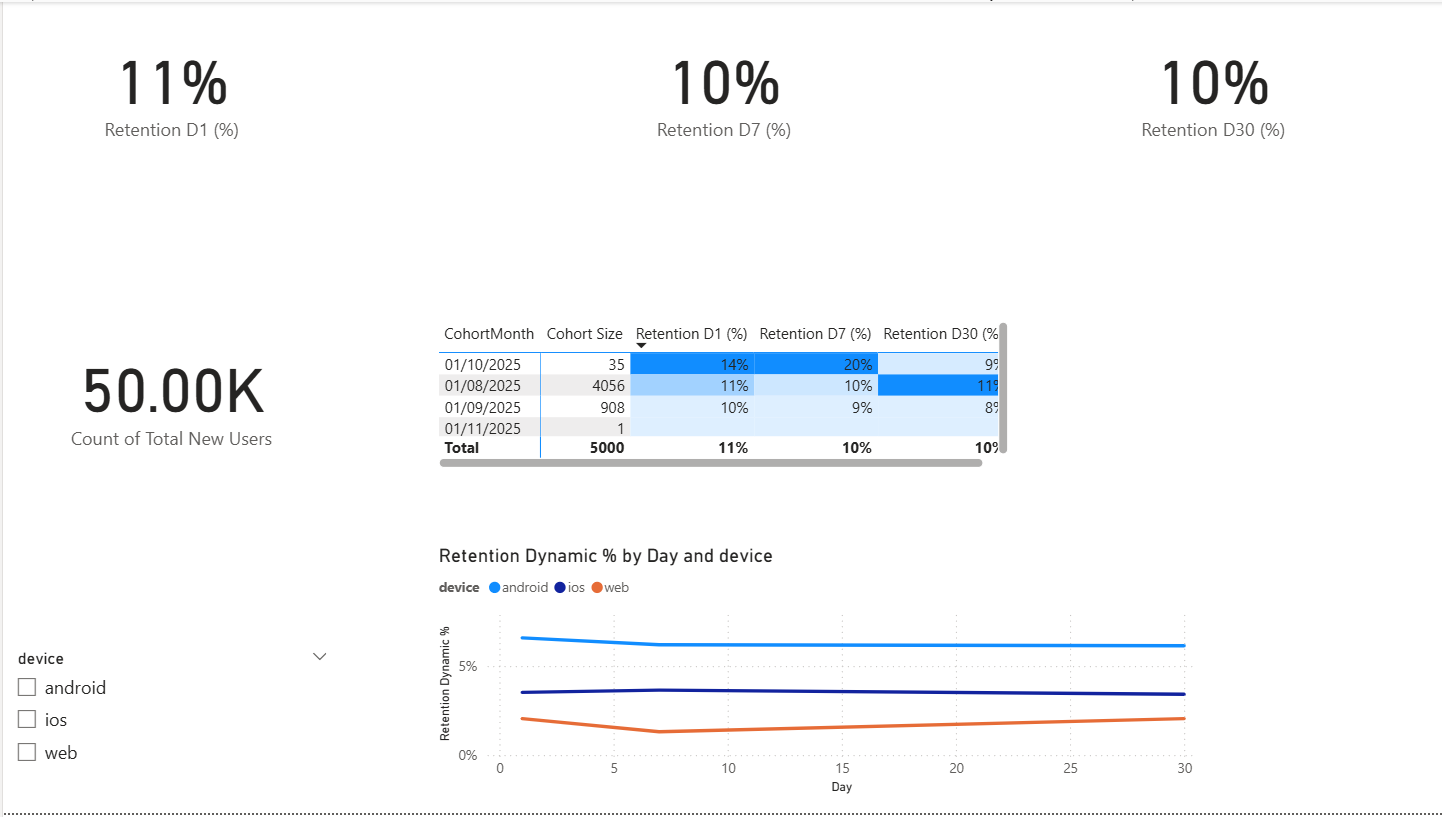

The dashboard page shown, as its layout file describes it:
{"tool":"powerbi","page":{"name":"Retention & Cohort","canvas":[1280,720],"ordinal":4},"visuals":[{"type":"pivotTable","fields":{"Rows":["EventWithCohort.CohortMonth"],"Values":["EventWithCohort.Cohort Size","EventWithCohort.Retention D1 (%)","EventWithCohort.Retention D7 (%)","EventWithCohort.Retention D30 (%)"]},"box":[382,278.9,516.1,140.3],"z":0},{"type":"slicer","fields":{"Values":["EventWithCohort.device"]},"box":[0,570.3,300.2,150.1],"z":1000},{"type":"card","fields":{"Values":["EventWithCohort.Retention D1 (%)"]},"box":[0,0,299.9,149.9],"z":2000},{"type":"card","fields":{"Values":["EventWithCohort.Retention D7 (%)"]},"box":[421.9,0,437,149.9],"z":3000},{"type":"card","fields":{"Values":["EventWithCohort.Retention D30 (%)"]},"box":[869.3,0,410.7,149.9],"z":4000},{"type":"card","fields":{"Values":["CountNonNull(EventWithCohort.Total New Users)"]},"box":[49.7,276.3,199.9,145.7],"z":4001},{"type":"lineChart","fields":{"Category":["RetentionDays.Day"],"Y":["EventWithCohort.Retention Dynamic %"],"Series":["EventWithCohort.device"]},"box":[382,481.4,682.2,226.5],"z":4002}]}

Visuals, with their boxes in screenshot pixels (x1, y1, x2, y2), scaled from the page's 1280x720 canvas onto the 1442x817 screenshot:
pivotTable - EventWithCohort.CohortMonth x EventWithCohort.Cohort Size: locate(430, 316, 1012, 476)
slicer - EventWithCohort.device: locate(0, 647, 338, 816)
card - EventWithCohort.Retention D1 (%): locate(0, 0, 338, 170)
card - EventWithCohort.Retention D7 (%): locate(475, 0, 968, 170)
card - EventWithCohort.Retention D30 (%): locate(979, 0, 1441, 170)
card - CountNonNull(EventWithCohort.Total New Users): locate(56, 314, 281, 479)
lineChart - RetentionDays.Day x EventWithCohort.Retention Dynamic %: locate(430, 546, 1199, 803)
